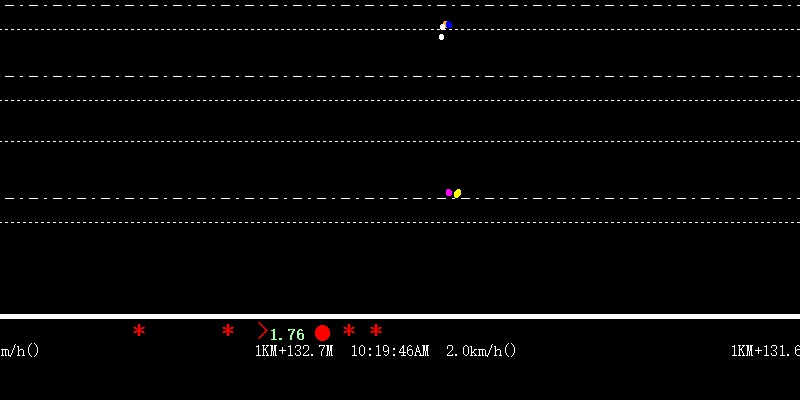circle: (313, 324, 333, 343)
face_2: (437, 16, 455, 32)
star: (130, 320, 149, 338), (219, 320, 237, 339), (368, 320, 383, 337), (341, 324, 355, 336)
